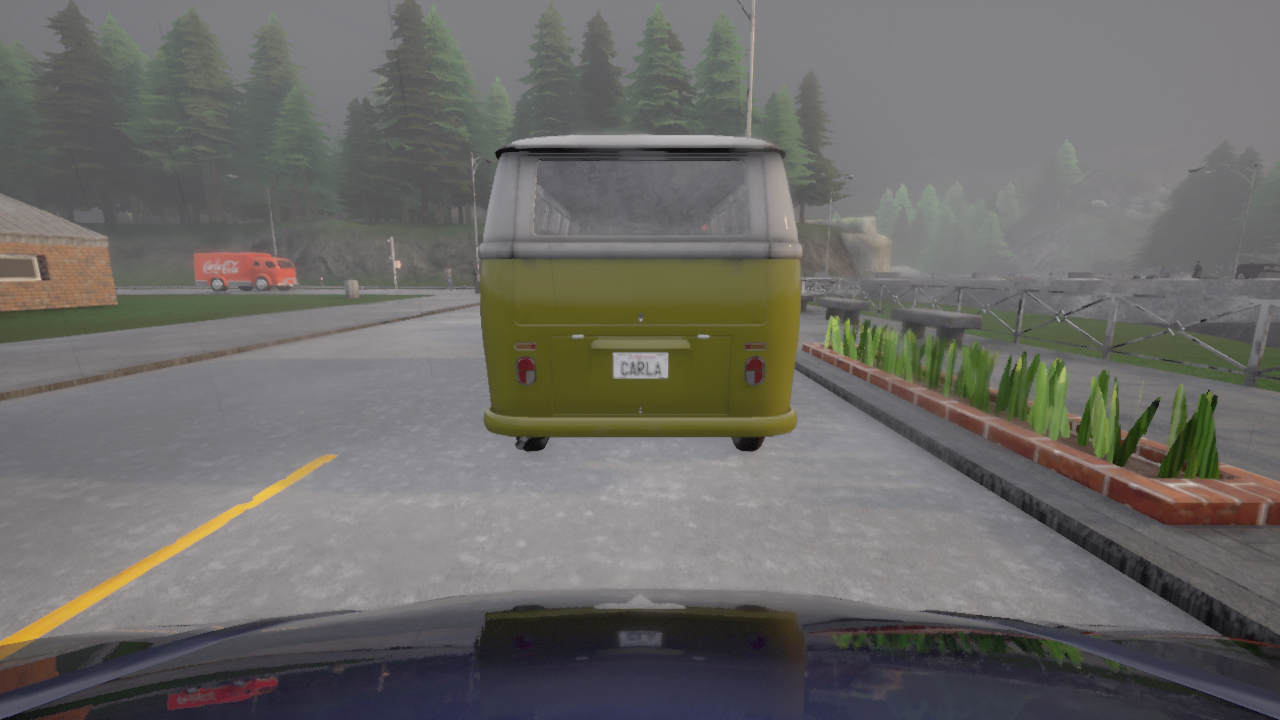cyclist: (0, 588, 1279, 719), (479, 135, 801, 450), (194, 253, 299, 290), (1130, 264, 1221, 279), (1234, 263, 1279, 279), (993, 271, 1047, 279)
pedestrian: (444, 262, 454, 291), (1191, 260, 1203, 278), (337, 265, 345, 285), (470, 264, 476, 288), (320, 274, 324, 286), (446, 279, 447, 286)
